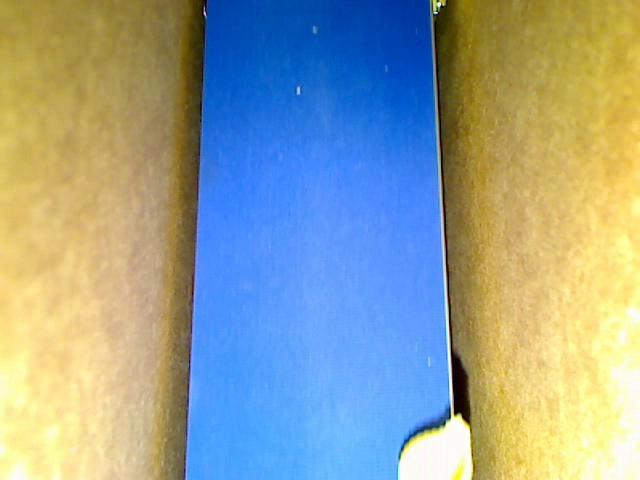shell: (397, 414, 473, 479)
